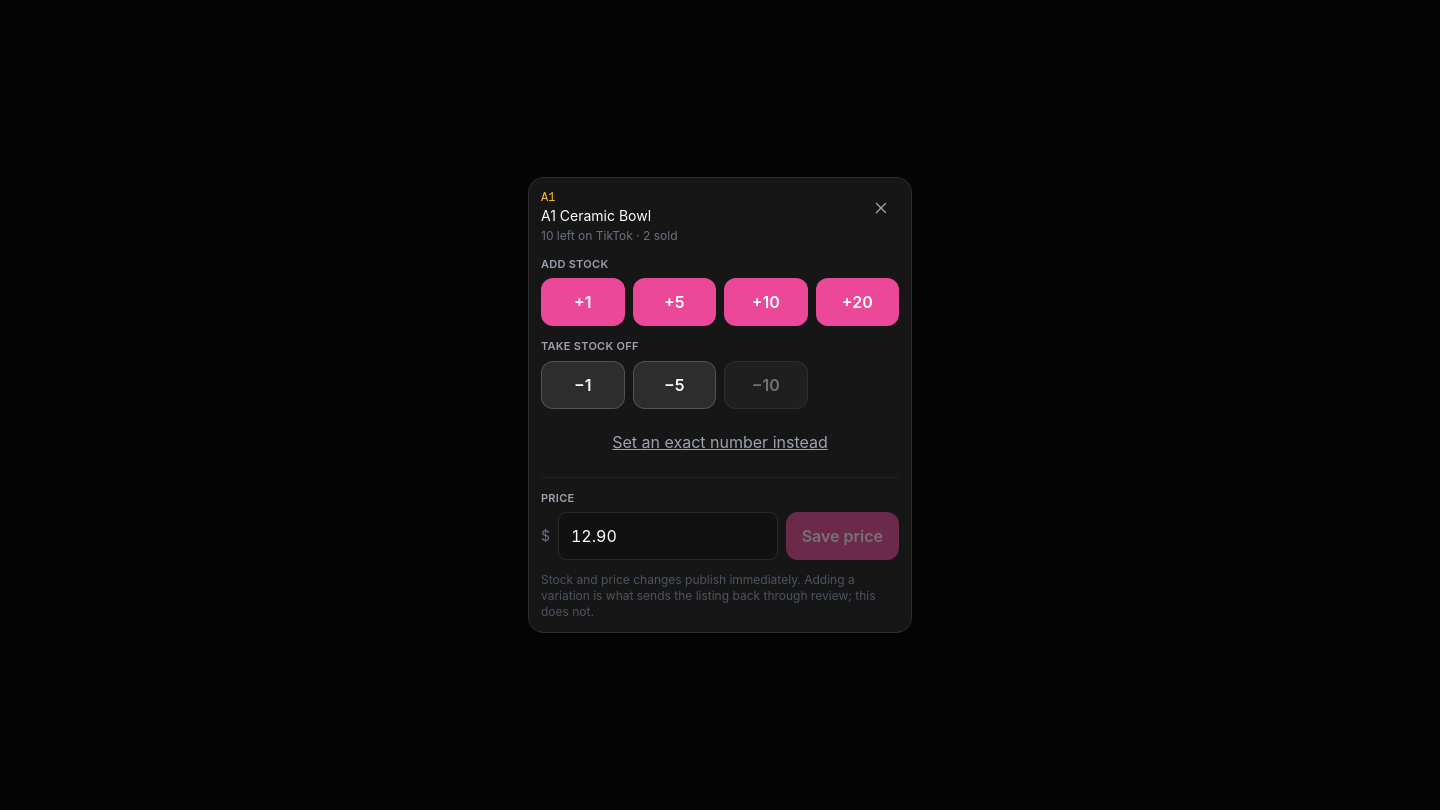
stock › cannot be closed while a write is actually out
Click the button "+5": (674, 302) [632,278,716,326]
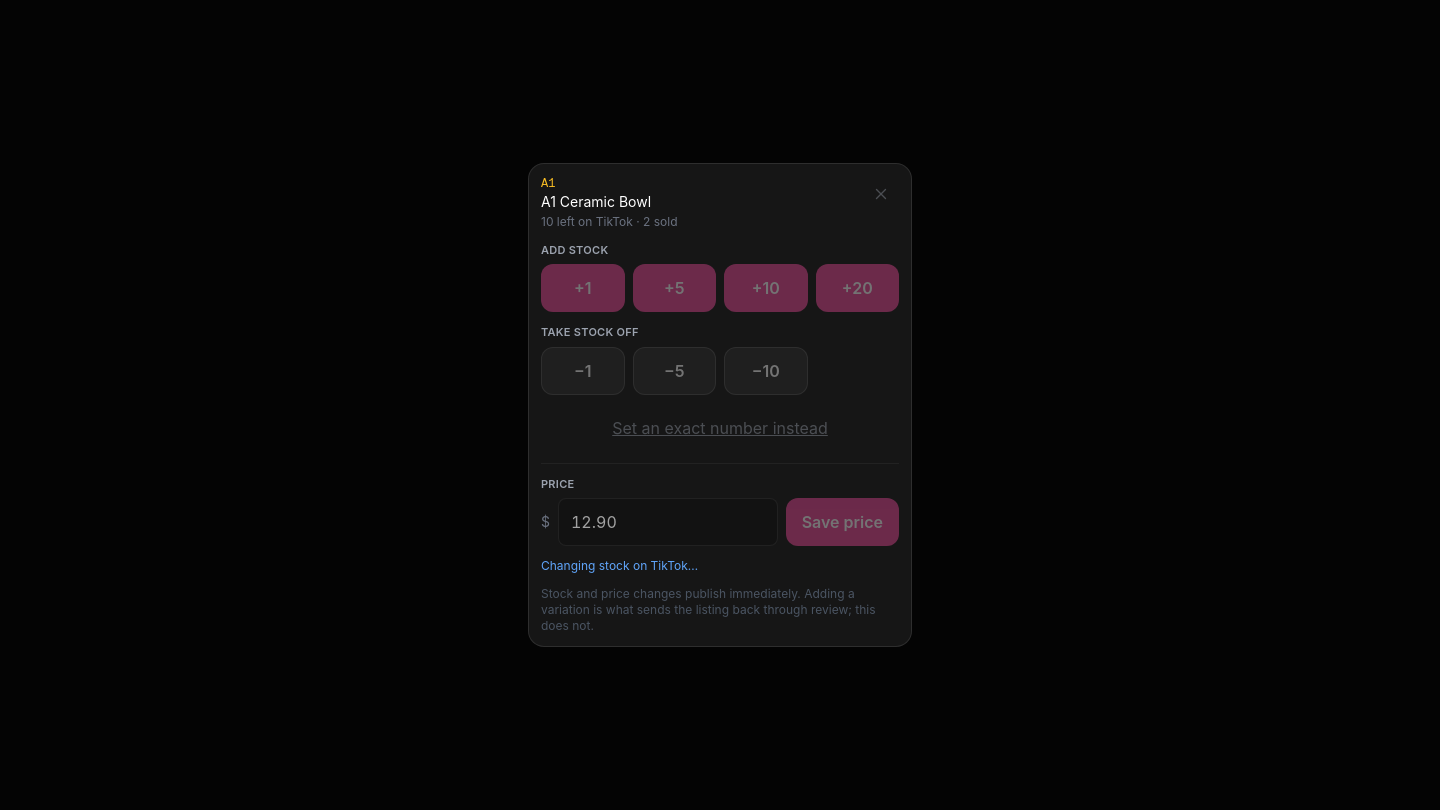
Expected: the button named "Close" is disabled, [859,172,903,216]
